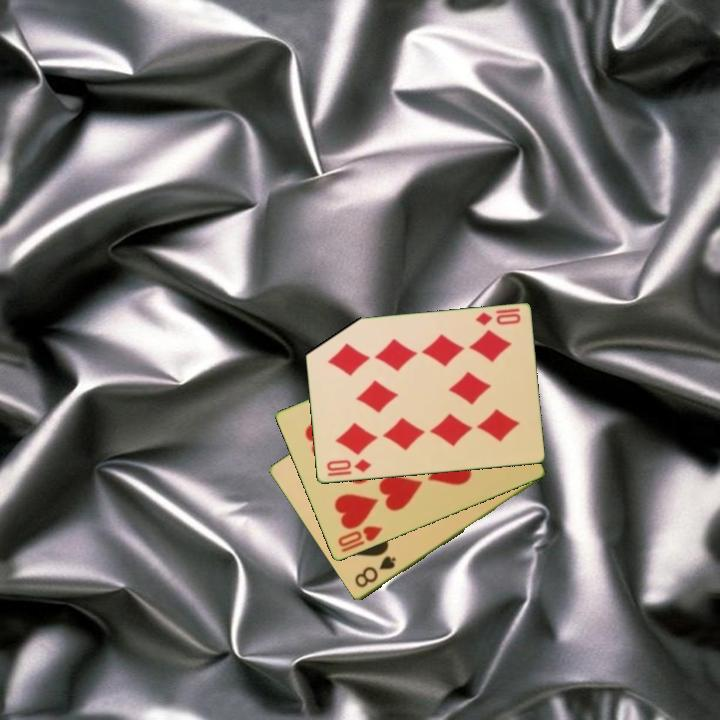10d: (472, 305, 523, 329), (323, 456, 374, 475)
10h: (334, 523, 385, 555)
8s: (351, 552, 399, 591)
